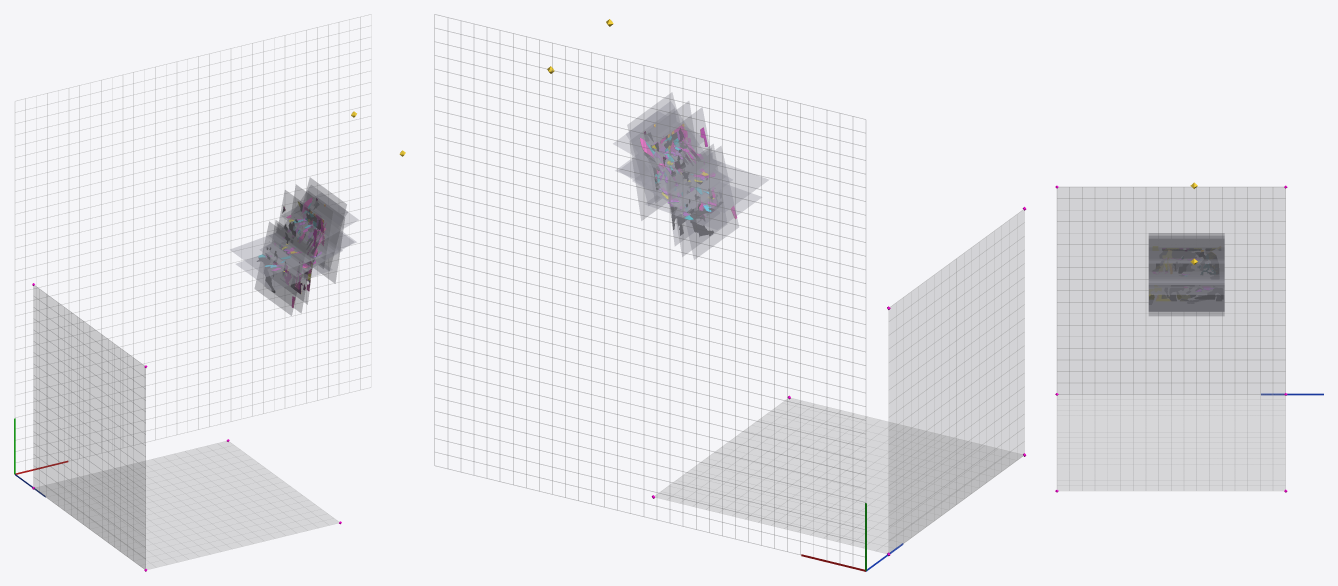
The model's file is shards.obj.
3 renders of one model, left to right at view 1: azimuth 30°, elevation 25°; view 2: azimuth 150°, elevation 25°; view 3: azimuth 270°, elevation 25°, orthographic. The views are drawn at different scales.
Parts seen in each view (by area): view 1: wall_A, wall_B, grid_floor, panel_S3, panel_S1, panel_S4, panel_S6, panel_S2, grid_wallA, panel_S11, panel_S12, panel_S8 (+5 smaller); view 2: wall_A, wall_B, grid_floor, panel_S3, panel_S1, grid_wallA, panel_S4, grid_wallB, panel_S6, panel_S2, panel_S11, panel_S8 (+5 smaller); view 3: wall_A, wall_B, panel_S9, grid_wallA, panel_S12, K, grid_wallB, panel_S0, panel_S8, panel_S7, panel_S4, panel_S11 (+1 smaller).
Part boxes in pixels (<box>): wall_A: <box>34,286,145,568</box>; wall_B: <box>36,441,338,569</box>; grid_floor: <box>15,14,371,470</box>; panel_S3: <box>254,221,306,315</box>; panel_S1: <box>230,234,323,276</box>; panel_S4: <box>279,190,321,282</box>; panel_S6: <box>236,256,332,290</box>; panel_S2: <box>285,185,347,271</box>; grid_wallA: <box>33,286,145,565</box>; panel_S11: <box>265,220,312,312</box>; panel_S12: <box>306,177,346,270</box>; panel_S8: <box>292,184,332,268</box>; wall_A: <box>889,210,1024,552</box>; wall_B: <box>655,398,1022,553</box>; grid_floor: <box>434,14,865,556</box>; panel_S3: <box>676,146,738,259</box>; panel_S1: <box>656,161,768,212</box>; grid_wallA: <box>888,210,1024,548</box>; panel_S4: <box>657,107,709,219</box>; grid_wallB: <box>655,398,1021,552</box>; panel_S6: <box>645,186,761,229</box>; panel_S2: <box>626,101,702,206</box>; panel_S11: <box>669,144,726,256</box>; panel_S8: <box>644,101,693,203</box>; wall_A: <box>1057,187,1285,393</box>; wall_B: <box>1057,394,1285,490</box>; panel_S9: <box>1149,251,1224,310</box>; grid_wallA: <box>1057,187,1285,394</box>; panel_S12: <box>1149,239,1224,293</box>; K: <box>1149,248,1223,304</box>; grid_wallB: <box>1057,394,1285,490</box>; panel_S0: <box>1149,295,1224,311</box>; panel_S8: <box>1149,236,1224,247</box>; panel_S7: <box>1149,277,1224,284</box>; panel_S4: <box>1149,233,1224,238</box>; panel_S11: <box>1149,311,1224,315</box>.
Bounding box in the file's own units: 3318 × 3318 × 2115.
